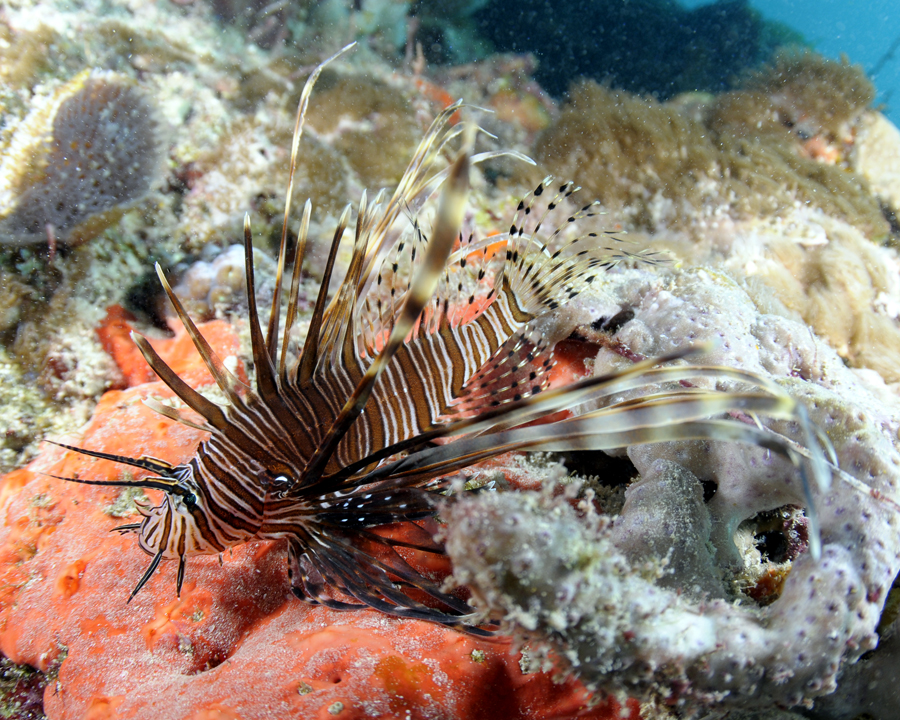Pterois_volitans: (80, 128, 705, 655)
